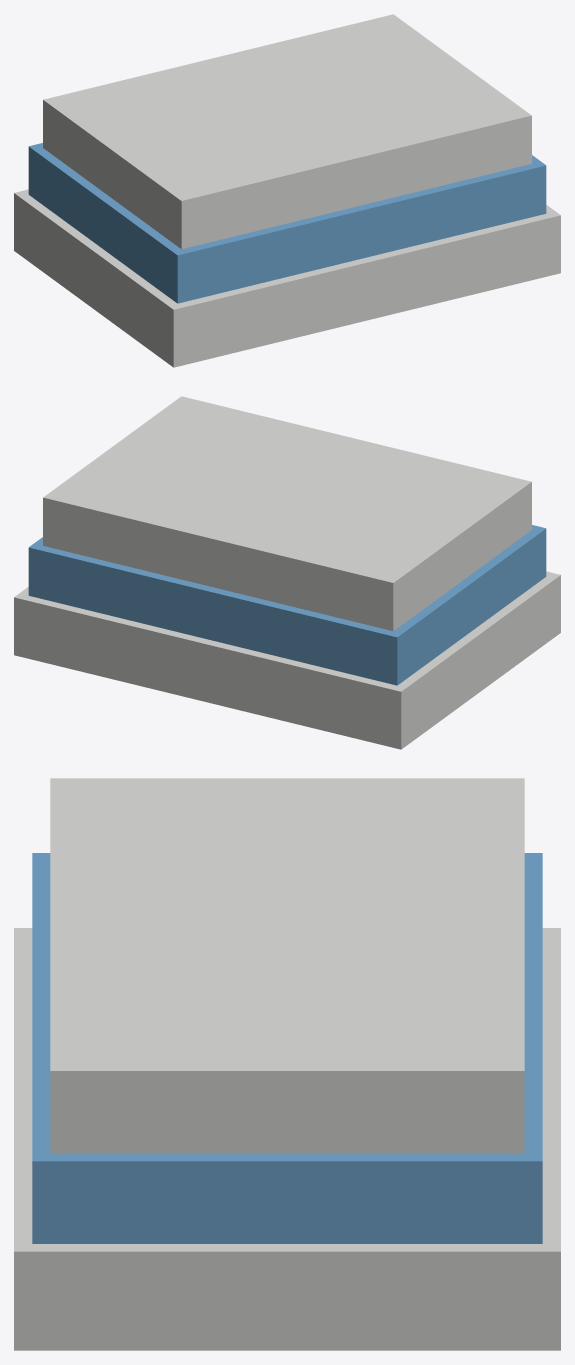
File: tennis-club-and-courts-court-towel-e7534f8c__33625.glb
The picture shows the model from 3 angles, top to bottom: view 1: azimuth 30°, elevation 25°; view 2: azimuth 150°, elevation 25°; view 3: azimuth 270°, elevation 25°; orthographic projection. The views are drawn at different scales.
Parts seen in each view (by area): view 1: court-towel; view 2: court-towel; view 3: court-towel.
Part boxes in pixels (left/top/right/bottom): court-towel: left=14, top=14, right=560, bottom=367; court-towel: left=14, top=396, right=560, bottom=749; court-towel: left=14, top=778, right=560, bottom=1350.
Bounding box in the file's own units: 0.42 × 0.16 × 0.3.
